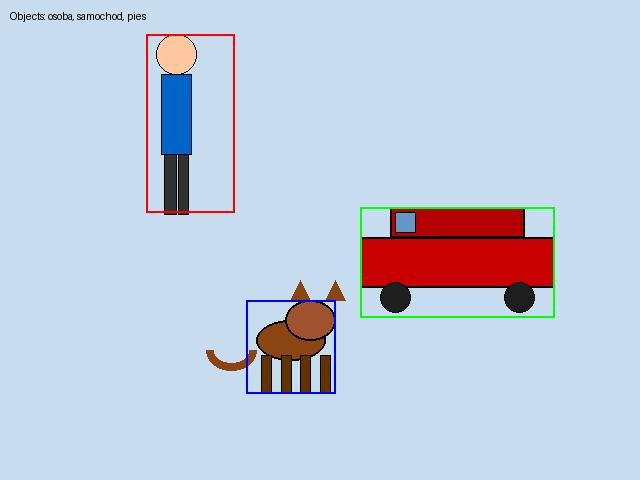osoba: (146, 34, 234, 212)
pies: (246, 300, 335, 393)
samochod: (360, 207, 554, 317)
